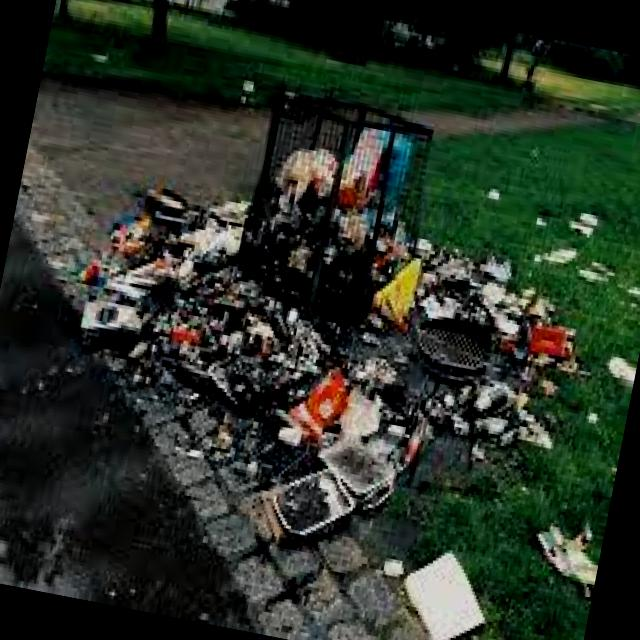garbage: (41, 47, 622, 590)
